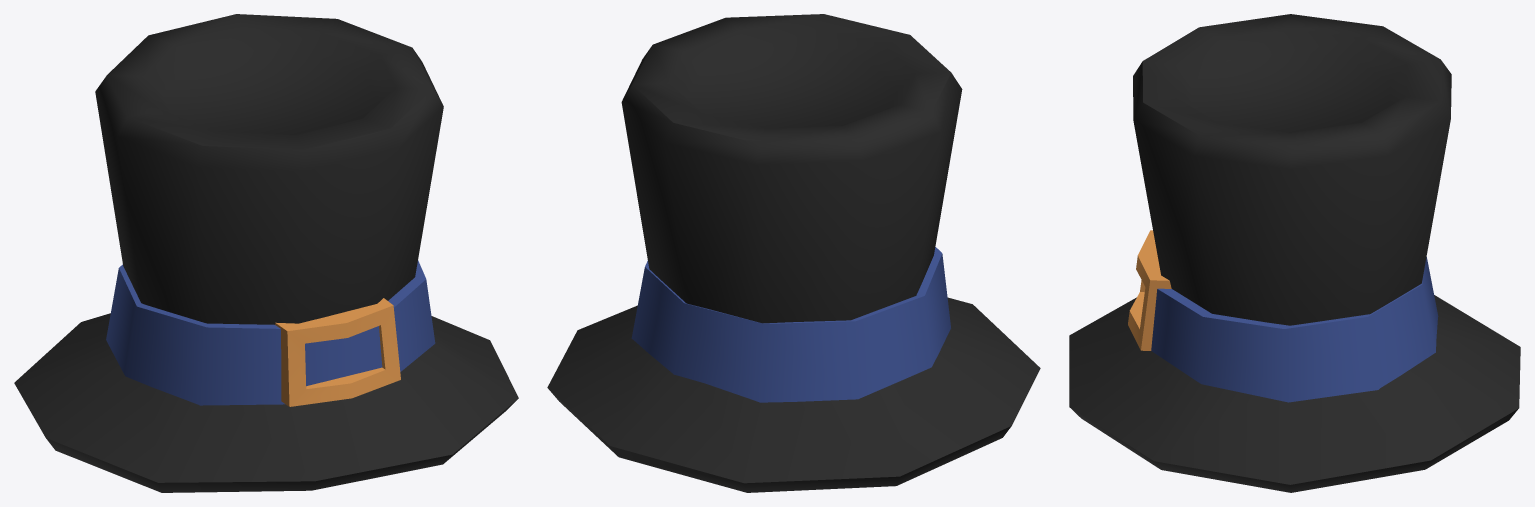
Rendered from TopHat_01.fbx.
3 renders of one model, left to right at view 1: azimuth 30°, elevation 25°; view 2: azimuth 150°, elevation 25°; view 3: azimuth 270°, elevation 25°, orthographic. The views are drawn at different scales.
Parts seen in each view (by area): view 1: TopHat_01; view 2: TopHat_01; view 3: TopHat_01.
Part boxes in pixels (left/top/right/bottom): TopHat_01: left=14, top=14, right=518, bottom=492; TopHat_01: left=547, top=14, right=1040, bottom=492; TopHat_01: left=1069, top=14, right=1520, bottom=492.
Size of the model in its own units: 0.403 by 0.2825 by 0.3673.
